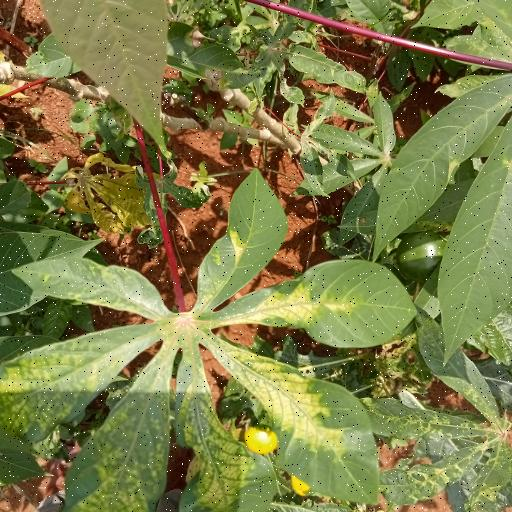Cassava_Brown_Leaf_Spot: (65, 154, 163, 235)
Cassava_Healthy: (21, 203, 391, 512)
